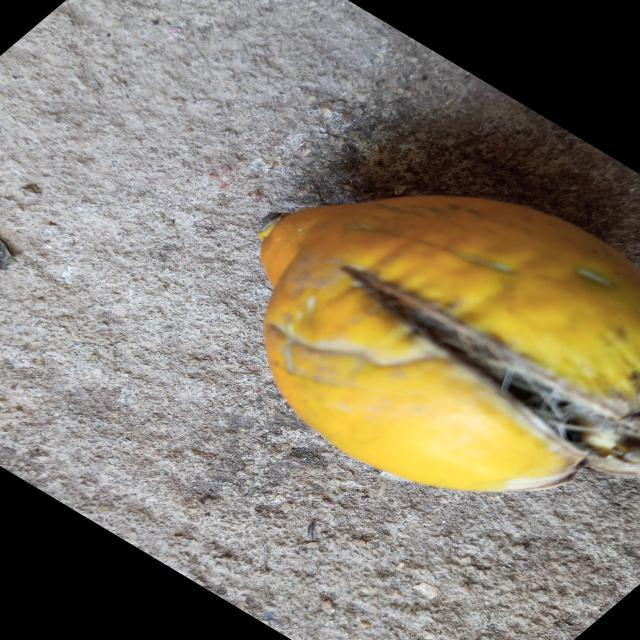damaged: (259, 196, 640, 495)
